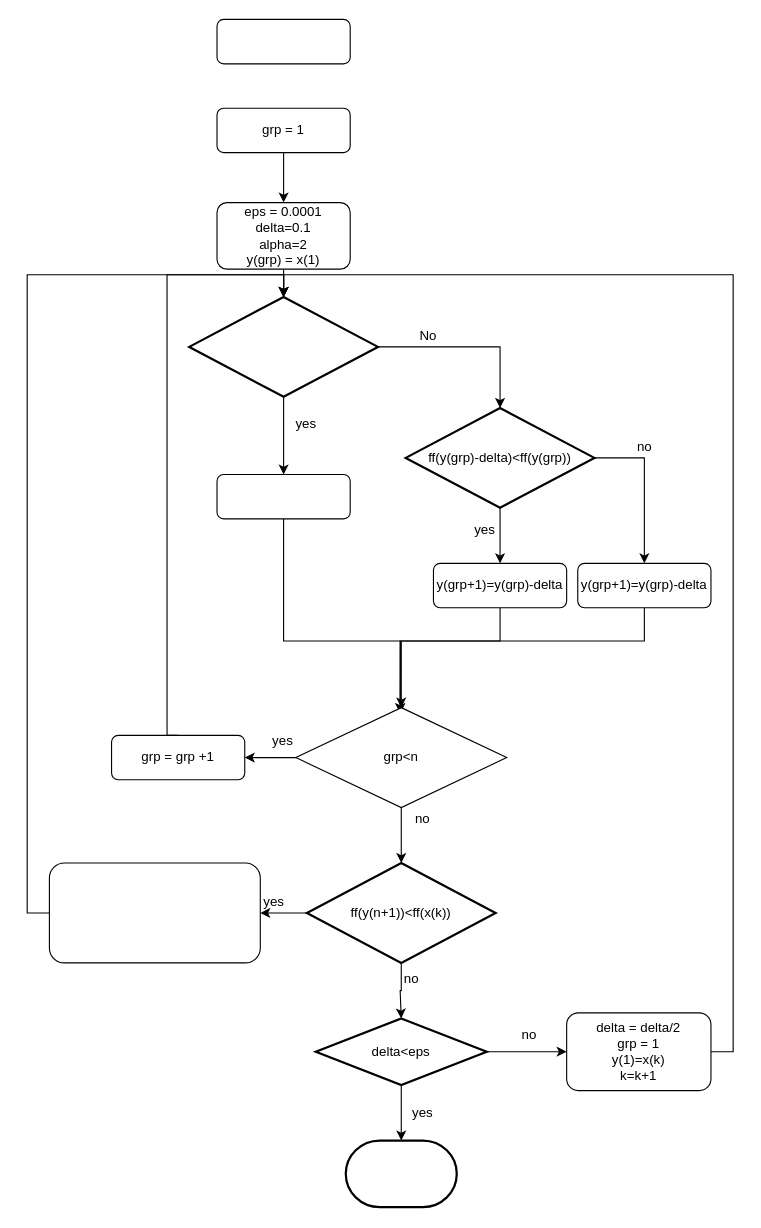
Image size: 761x1228. Some labels were removed from this diagram. Here are the shapes that lost their labels. From the top down, the centre of each, then its label:
At point 283,41: "k=1".
At point 283,346: "ff(y(grp)+delta)<ff(y(grp))".
At point 283,496: "y(grp+1)=y(grp)+delta".
At point 154,912: "x(k+1)=y(n+1) grp=1 y(1) = x(k+1)+alpha*(x(k+1)-x(k)) k=k+1".
At point 400,1173: "End".
